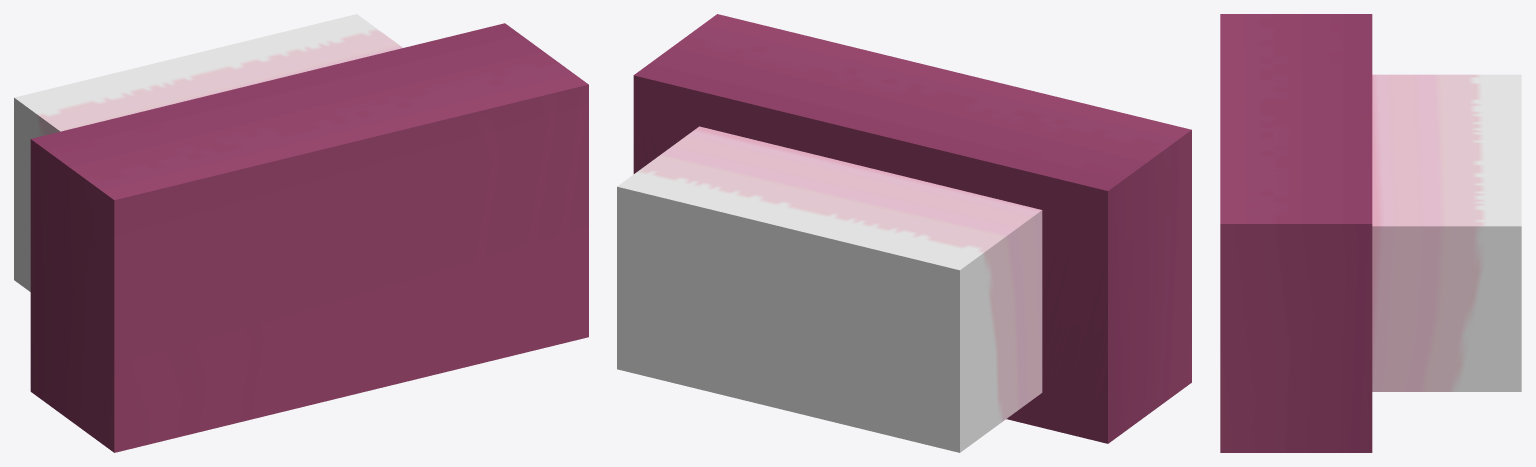
File: ScrubBrush.fbx
3 views of the same model, side by side, from view 1: azimuth 30°, elevation 25°; view 2: azimuth 150°, elevation 25°; view 3: azimuth 270°, elevation 25° (orthographic). The views are drawn at different scales.
Parts seen in each view (by area): view 1: ScrubBrush; view 2: ScrubBrush; view 3: ScrubBrush.
Part boxes in pixels (left/top/right/bottom): ScrubBrush: left=14, top=14, right=588, bottom=452; ScrubBrush: left=617, top=14, right=1191, bottom=452; ScrubBrush: left=1220, top=14, right=1521, bottom=452.
Size of the model in its own units: 0.2274 by 0.1158 by 0.1379.
Materials: 1 (1 with a texture image).
